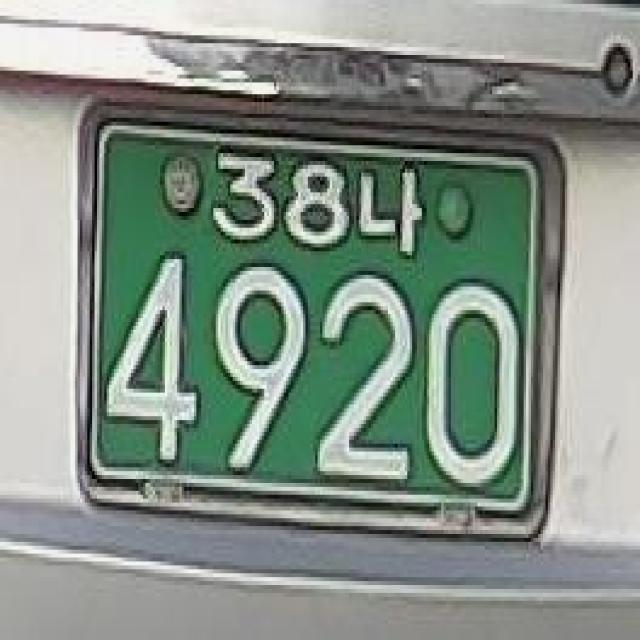illegal_plate: (57, 99, 566, 560)
